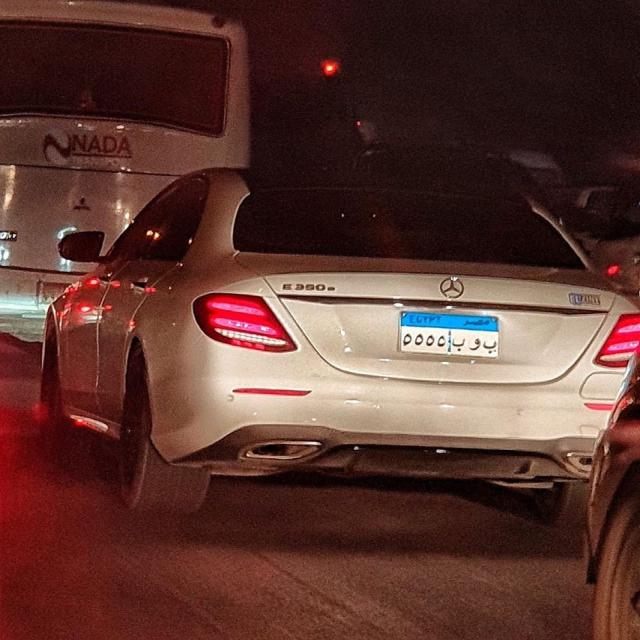License Plate: (395, 307, 503, 361)
